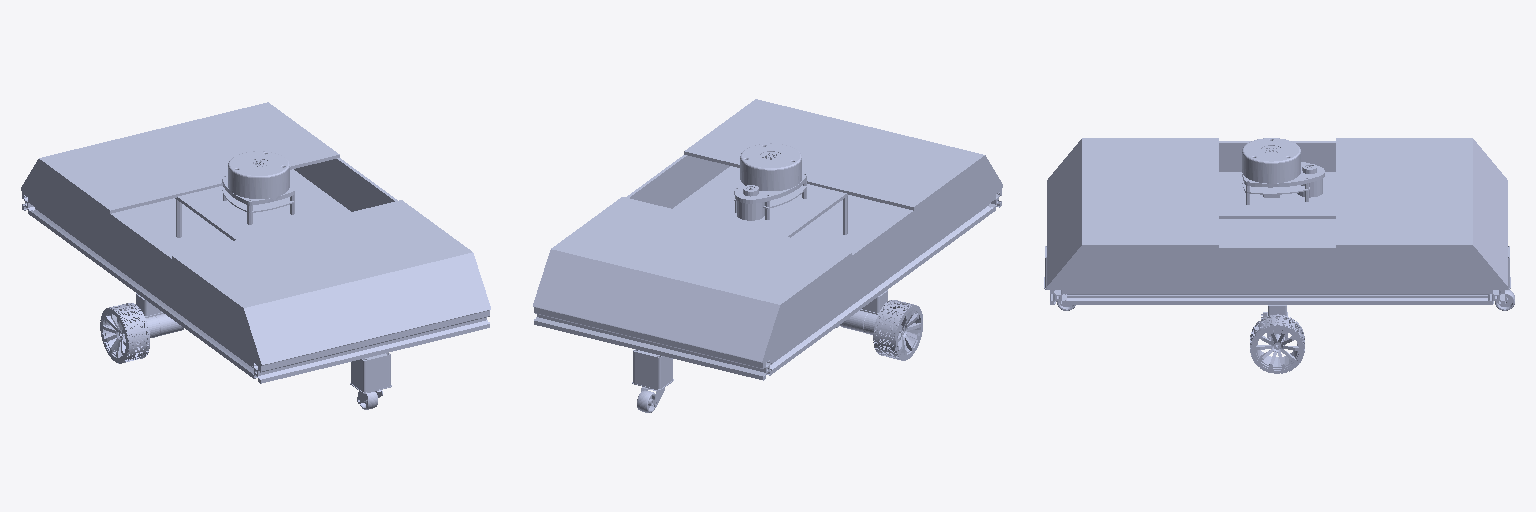
URDF robot description (mobot_v2):
<?xml version="1.0" encoding="utf-8"?>
<!-- This URDF was automatically created by SolidWorks to URDF Exporter! Originally created by [author] ([email redacted]) 
     Commit Version: 1.6.0-4-g7f85cfe  Build Version: 1.6.7995.38578
     For more information, please see http://wiki.ros.org/sw_urdf_exporter -->
<robot
  name="mobot_v2">
  
   <link name="world"/>
   <!-- /////////////////////////base link/////////////////////////-->
  <link
    name="Base_origin">
    <inertial>
      <origin
        xyz="-0.11624 0.040271 -0.022163"
        rpy="0 0 0" />
      <mass
        value="1.9026" />
      <inertia
        ixx="0.021008"
        ixy="-1.8379E-11"
        ixz="1.4612E-09"
        iyy="0.0090992"
        iyz="-2.7708E-08"
        izz="0.029691" />
    </inertial>
    <visual>
      <origin
        xyz="0 0 0"
        rpy="0 0 0" />
      <geometry>
        <mesh
          filename="package://mobot_v2/meshes/Base_origin.STL" />
      </geometry>
      <material
        name="">
        <color
          rgba="0.79216 0.81961 0.93333 1" />
      </material>
    </visual>
    <collision>
      <origin
        xyz="0 0 0"
        rpy="0 0 0" />
      <geometry>
        <mesh
          filename="package://mobot_v2/meshes/Base_origin.STL" />
      </geometry>
    </collision>
  </link>
  <link
    name="Lwheel">
    <inertial>
      <origin
        xyz="0.000824894843359 -0.000216415253456226 0.00581998639719201"
        rpy="0 0 0" />
      <mass
        value="0.0419551495558746" />
      <inertia
        ixx="1.84062435462854E-05"
        ixy="-8.35614213397228E-09"
        ixz="-4.19043899727292E-10"
        iyy="1.83755048516302E-05"
        iyz="9.84368696584489E-11"
        izz="3.09193291489182E-05" />
    </inertial>
    <visual>
      <origin
        xyz="0 0 0"
        rpy="0 0 0" />
      <geometry>
        <mesh
          filename="package://mobot_v2/meshes/Lwheel.STL" />
      </geometry>
      <material
        name="">
        <color
          rgba="0.792156862745098 0.819607843137255 0.933333333333333 1" />
      </material>
    </visual>
    <collision>
      <origin
        xyz="0 0 0"
        rpy="0 0 0" />
      <geometry>
        <mesh
          filename="package://mobot_v2/meshes/Lwheel.STL" />
      </geometry>
    </collision>
  </link>
  <joint
    name="Lwheel-jt"
    type="continuous">
    <origin
      xyz="0.0605111083780135 0.0402696535569387 0.0519311440375263"
      rpy="-1.5707963267949 0 1.5707963267949" />
    <parent
      link="Base_origin" />
    <child
      link="Lwheel" />
    <axis
      xyz="0 0 -1" />
    <limit
      lower="0"
      upper="0"
      effort="0"
      velocity="0" />
  </joint>
  <link
    name="Rwheel">
    <inertial>
      <origin
        xyz="-4.57546365438405E-05 -0.000851582983449159 -0.00581998639717496"
        rpy="0 0 0" />
      <mass
        value="0.0419551495559179" />
      <inertia
        ixx="1.83735112724644E-05"
        ixy="2.13792698510769E-09"
        ixz="-3.41954935963936E-11"
        iyy="1.84082371254683E-05"
        iyz="-4.29090065698067E-10"
        izz="3.09193291489226E-05" />
    </inertial>
    <visual>
      <origin
        xyz="0 0 0"
        rpy="0 0 0" />
      <geometry>
        <mesh
          filename="package://mobot_v2/meshes/Rwheel.STL" />
      </geometry>
      <material
        name="">
        <color
          rgba="0.792156862745098 0.819607843137255 0.933333333333333 1" />
      </material>
    </visual>
    <collision>
      <origin
        xyz="0 0 0"
        rpy="0 0 0" />
      <geometry>
        <mesh
          filename="package://mobot_v2/meshes/Rwheel.STL" />
      </geometry>
    </collision>
  </link>
  <joint
    name="Rwheel-jt"
    type="continuous">
    <origin
      xyz="-0.292991104478199 0.0402696535569407 0.0519311440375265"
      rpy="-1.5707963267949 0 1.5707963267949" />
    <parent
      link="Base_origin" />
    <child
      link="Rwheel" />
    <axis
      xyz="0 0 -1" />
    <limit
      lower="0"
      upper="0"
      effort="0"
      velocity="0" />
  </joint>
  <link
    name="Fwheel">
    <inertial>
      <origin
        xyz="0 0 1.38777878078145E-17"
        rpy="0 0 0" />
      <mass
        value="0.00352622390112194" />
      <inertia
        ixx="2.11465239614814E-07"
        ixy="2.06217042208846E-23"
        ixz="-1.04288087401274E-22"
        iyy="2.11465239614814E-07"
        iyz="-2.5614406397533E-24"
        izz="3.32871831958792E-07" />
    </inertial>
    <visual>
      <origin
        xyz="0 0 0"
        rpy="0 0 0" />
      <geometry>
        <mesh
          filename="package://mobot_v2/meshes/Fwheel.STL" />
      </geometry>
      <material
        name="">
        <color
          rgba="0.792156862745098 0.819607843137255 0.933333333333333 1" />
      </material>
    </visual>
    <collision>
      <origin
        xyz="0 0 0"
        rpy="0 0 0" />
      <geometry>
        <mesh
          filename="package://mobot_v2/meshes/Fwheel.STL" />
      </geometry>
    </collision>
  </link>
  <joint
    name="Fwheel-jt"
    type="fixed">
    <origin
      xyz="-0.118337283667785 0.310226503808691 0.0727311440375248"
      rpy="-1.5707963267949 0 1.5707963267949" />
    <parent
      link="Base_origin" />
    <child
      link="Fwheel" />
    <axis
      xyz="0 0 0" />
  </joint>
  <link
    name="Bwheel">
    <inertial>
      <origin
        xyz="0 0 1.38777878078145E-17"
        rpy="0 0 0" />
      <mass
        value="0.00352622390112194" />
      <inertia
        ixx="2.11465239614814E-07"
        ixy="-2.79466685801447E-23"
        ixz="7.60585199653189E-23"
        iyy="2.11465239614814E-07"
        iyz="4.45968973134151E-23"
        izz="3.32871831958793E-07" />
    </inertial>
    <visual>
      <origin
        xyz="0 0 0"
        rpy="0 0 0" />
      <geometry>
        <mesh
          filename="package://mobot_v2/meshes/Bwheel.STL" />
      </geometry>
      <material
        name="">
        <color
          rgba="0.792156862745098 0.819607843137255 0.933333333333333 1" />
      </material>
    </visual>
    <collision>
      <origin
        xyz="0 0 0"
        rpy="0 0 0" />
      <geometry>
        <mesh
          filename="package://mobot_v2/meshes/Bwheel.STL" />
      </geometry>
    </collision>
  </link>
  <joint
    name="Bwheel-jt"
    type="fixed">
    <origin
      xyz="-0.118337283667785 -0.209773496191309 0.072731144037525"
      rpy="-1.5707963267949 0 1.5707963267949" />
    <parent
      link="Base_origin" />
    <child
      link="Bwheel" />
    <axis
      xyz="0 0 0" />
  </joint>
  <link
    name="lidar">
    <inertial>
      <origin
        xyz="0.00676628412110622 -0.0073497547966201 9.204265617406E-05"
        rpy="0 0 0" />
      <mass
        value="1.32944589754502" />
      <inertia
        ixx="0.000612752010300123"
        ixy="0.000158232462510536"
        ixz="8.01141141656571E-07"
        iyy="0.0010957461492681"
        iyz="3.09663447837291E-06"
        izz="0.000957691135206996" />
    </inertial>
    <visual>
      <origin
        xyz="0 0 0"
        rpy="0 0 0" />
      <geometry>
        <mesh
          filename="package://mobot_v2/meshes/lidar.STL" />
      </geometry>
      <material
        name="">
        <color
          rgba="0.792156862745098 0.819607843137255 0.933333333333333 1" />
      </material>
    </visual>
    <collision>
      <origin
        xyz="0 0 0"
        rpy="0 0 0" />
      <geometry>
        <mesh
          filename="package://mobot_v2/meshes/lidar.STL" />
      </geometry>
    </collision>
  </link>
  <joint
    name="lidar-jt"
    type="continuous">
    <origin
      xyz="-0.116239998050096 0.0332696535569434 -0.107718855962475"
      rpy="-1.5707963267949 0 1.5707963267949" />
    <parent
      link="Base_origin" />
    <child
      link="lidar" />
    <axis
      xyz="0 1 0" />
    <limit
      lower="0"
      upper="0"
      effort="0"
      velocity="0" />
  </joint>
  
  <!-- Fixed joint connecting the world to the base link -->
  <joint name="Base_origin_joint" type="fixed">
    <parent link="world"/>
    <child link="Base_origin"/>
    <origin rpy="0 3.14159 0" xyz="0.0 0.0 0.17"/>
  </joint>
  
   <!-- Add transmissions for existing joints -->
  <transmission name="wheel_right_trans">
    <type>transmission_interface/SimpleTransmission</type>
    <joint name="Rwheel-jt">
      <hardwareInterface>hardware_interface/PositionJointInterface</hardwareInterface>
    </joint>
    <actuator name="wheel_right_motor">
      <hardwareInterface>hardware_interface/PositionJointInterface</hardwareInterface>
      <mechanicalReduction>1</mechanicalReduction>
    </actuator>
  </transmission>

  <transmission name="wheel_left_trans">
    <type>transmission_interface/SimpleTransmission</type>
    <joint name="Lwheel-jt">
      <hardwareInterface>hardware_interface/PositionJointInterface</hardwareInterface>
    </joint>
    <actuator name="wheel_left_motor">
      <hardwareInterface>hardware_interface/PositionJointInterface</hardwareInterface>
      <mechanicalReduction>1</mechanicalReduction>
    </actuator>
  </transmission>

  <transmission name="front_caster_trans">
    <type>transmission_interface/SimpleTransmission</type>
    <joint name="Fwheel-jt">
      <hardwareInterface>hardware_interface/PositionJointInterface</hardwareInterface>
    </joint>
    <actuator name="front_caster_motor">
      <hardwareInterface>hardware_interface/PositionJointInterface</hardwareInterface>
      <mechanicalReduction>1</mechanicalReduction>
    </actuator>
  </transmission>

  <transmission name="back_caster_trans">
    <type>transmission_interface/SimpleTransmission</type>
    <joint name="Bwheel-jt">
      <hardwareInterface>hardware_interface/PositionJointInterface</hardwareInterface>
    </joint>
    <actuator name="back_caster_motor">
      <hardwareInterface>hardware_interface/PositionJointInterface</hardwareInterface>
      <mechanicalReduction>1</mechanicalReduction>
    </actuator>
  </transmission>
  
  
  <transmission name="lidar_link_trans">
    <type>transmission_interface/SimpleTransmission</type>
    <joint name="lidar-jt">
      <hardwareInterface>hardware_interface/PositionJointInterface</hardwareInterface>
    </joint>
    <actuator name="lidar">
      <hardwareInterface>hardware_interface/PositionJointInterface</hardwareInterface>
      <mechanicalReduction>1</mechanicalReduction>
    </actuator>
  </transmission>

  
  <!-- Add Gazebo plugins and properties -->
  <gazebo>
    <plugin name="control" filename="libgazebo_ros_control.so">
      <robotNamespace>/</robotNamespace>
    </plugin>
  </gazebo>
  
  <gazebo reference="Base_origin">
    <selfCollide>true</selfCollide>
  </gazebo>
  
  <gazebo reference="Rwheel">
    <selfCollide>true</selfCollide>
  </gazebo>
  
  <gazebo reference="Lwheel">
    <selfCollide>true</selfCollide>
  </gazebo>

  <gazebo reference="Bwheel">
    <selfCollide>true</selfCollide>
  </gazebo>
  
  <gazebo reference="Fwheel">
    <selfCollide>true</selfCollide>
  </gazebo>

  <gazebo reference="lidar">
    <selfCollide>true</selfCollide>
  </gazebo>
  
  
</robot>

--- Render facts (derived) ---
3 views of the same robot in one strip: view 1: azimuth 30°, elevation 25°; view 2: azimuth 150°, elevation 25°; view 3: azimuth 270°, elevation 25° (orthographic).
Model mobot_v2 with 7 links and 6 joints (3 continuous, 3 fixed), rooted at world, posed every joint at zero.
Visible links, largest first — view 1: Base_origin, lidar, Lwheel; view 2: Base_origin, lidar, Lwheel; view 3: Base_origin, lidar, Rwheel.
Boxes of the visible links, x1,y1,x2,y2 form: Base_origin: (21,102,490,403); lidar: (222,151,294,224); Lwheel: (100,303,149,363); Base_origin: (533,99,1002,406); lidar: (734,143,806,220); Lwheel: (873,300,922,360); Base_origin: (1044,138,1510,345); lidar: (1242,138,1324,204); Rwheel: (1250,314,1304,373).
Bounding box of the posed robot: 0.3701 × 0.559 × 0.208 m (x, y, z).
6 mesh visuals loaded from 6 distinct referenced files (6 binary STL).
